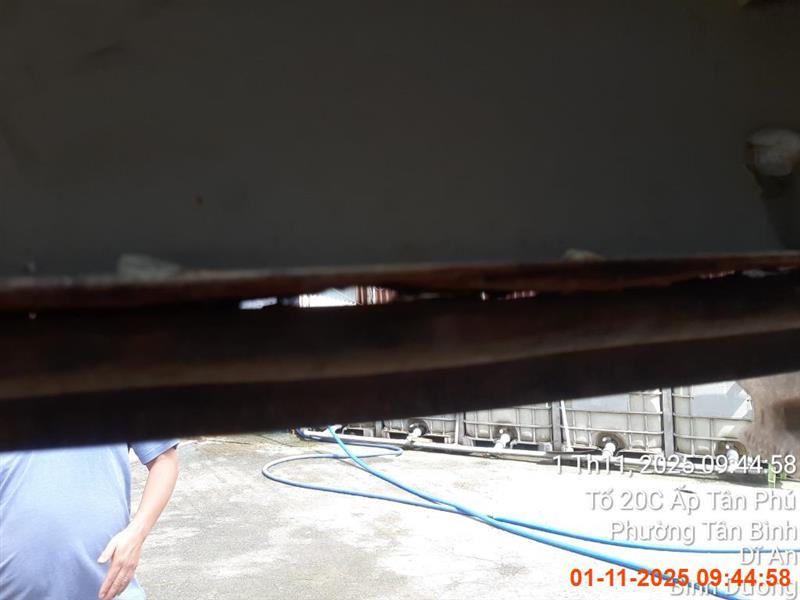hole: (1, 439, 180, 599)
